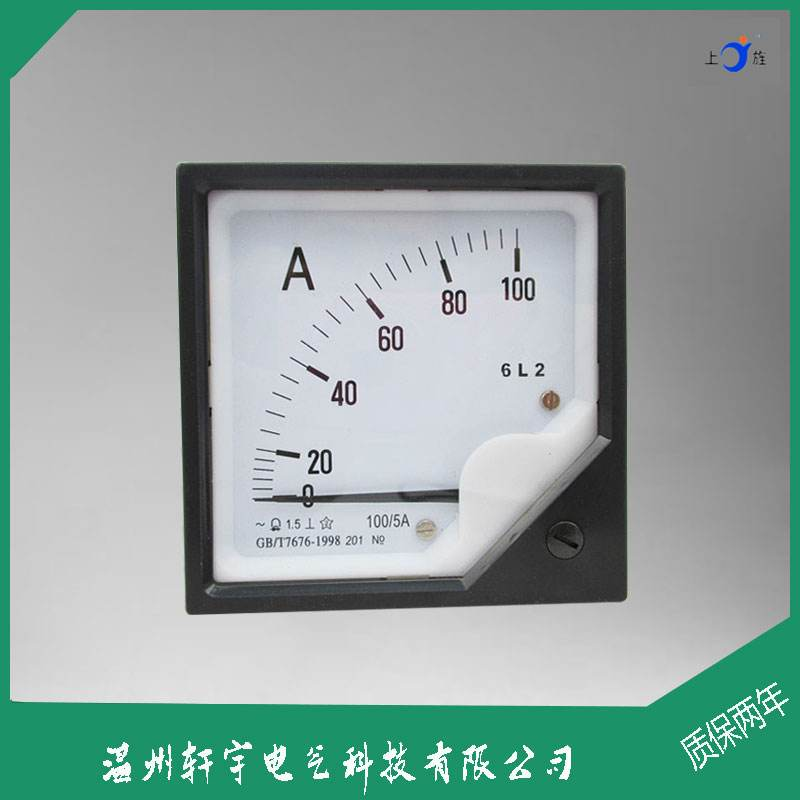pointer: (203, 187, 593, 583)
